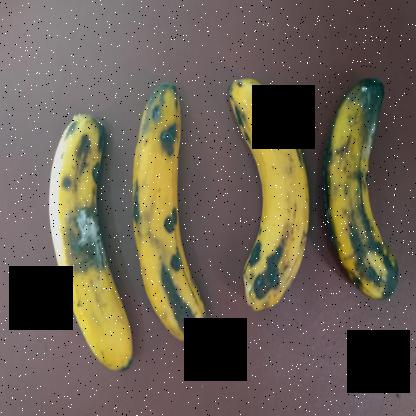overripe: (223, 57, 314, 326), (124, 72, 211, 350)
rotten: (312, 66, 416, 350), (41, 104, 136, 398)
